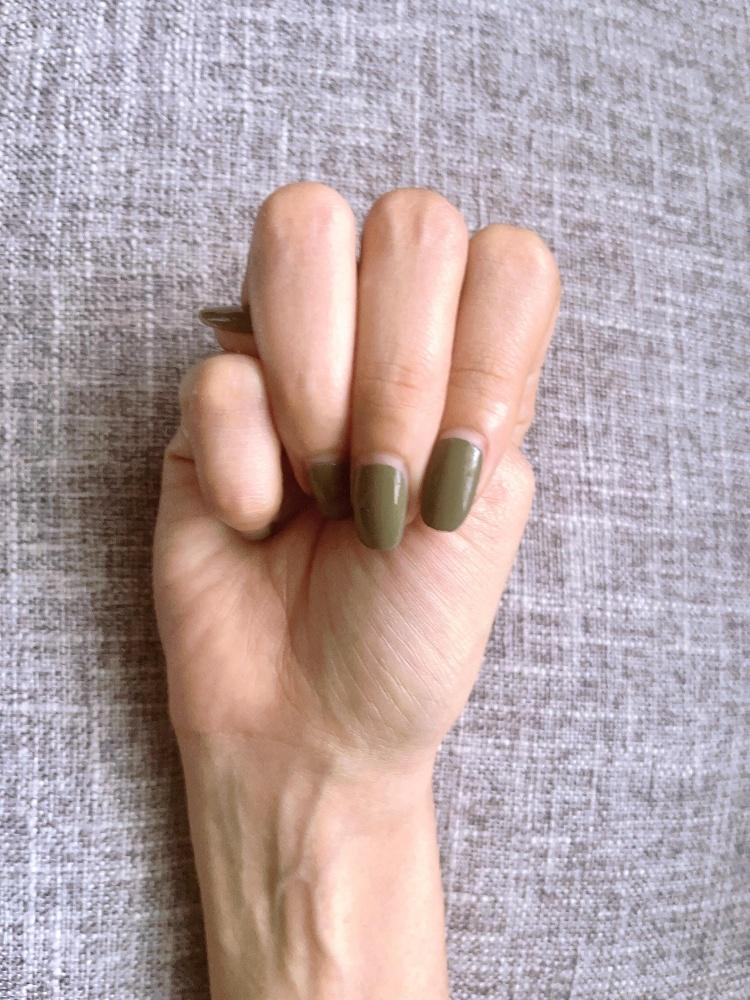m: (149, 175, 562, 737)
